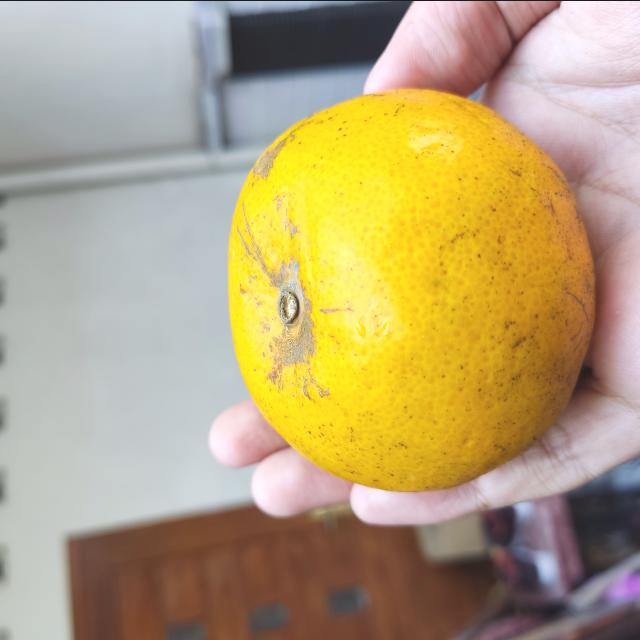orange: (223, 82, 598, 490)
